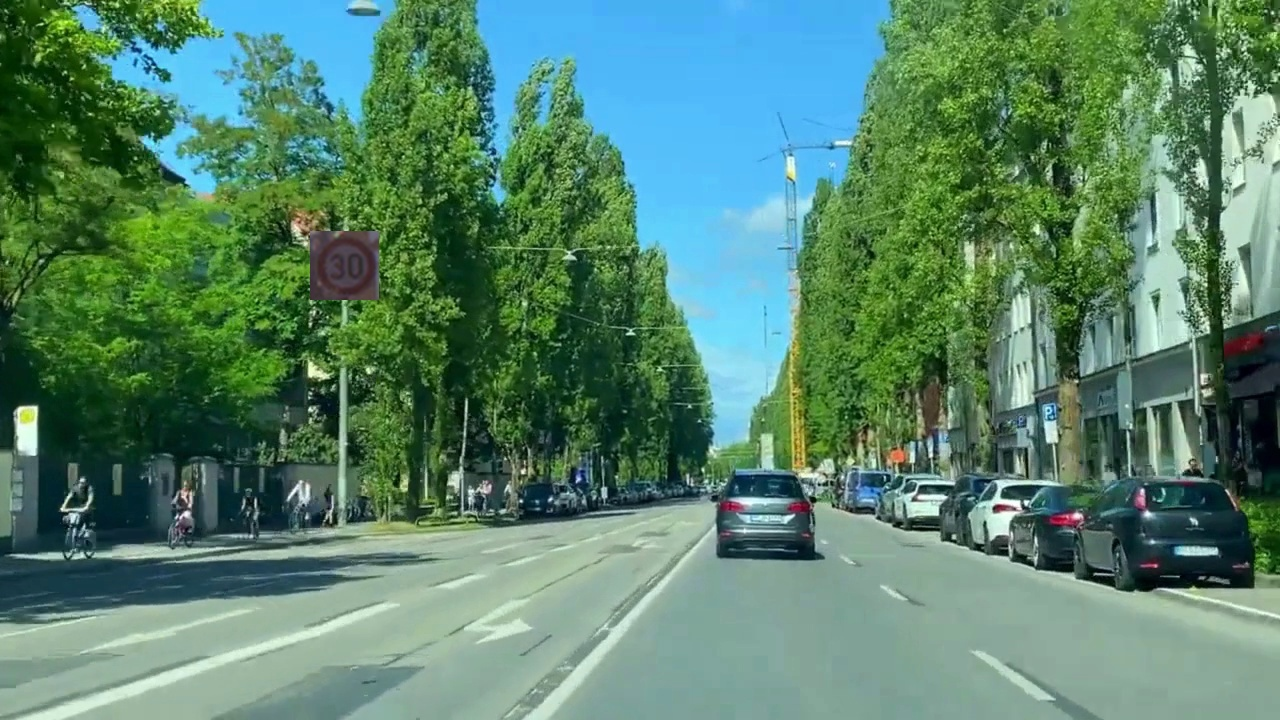Speed 30: (310, 231, 379, 300)
